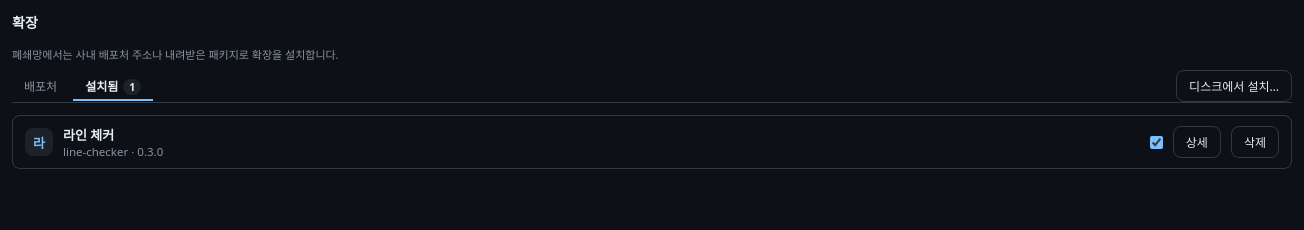
삭제 › 못 지우면 사유를 알린다 — 조용히 지워진 척하면 안 된다
The image size is (1304, 230).
Click the button "삭제" at (1255, 142), box [1231,126,1279,158]
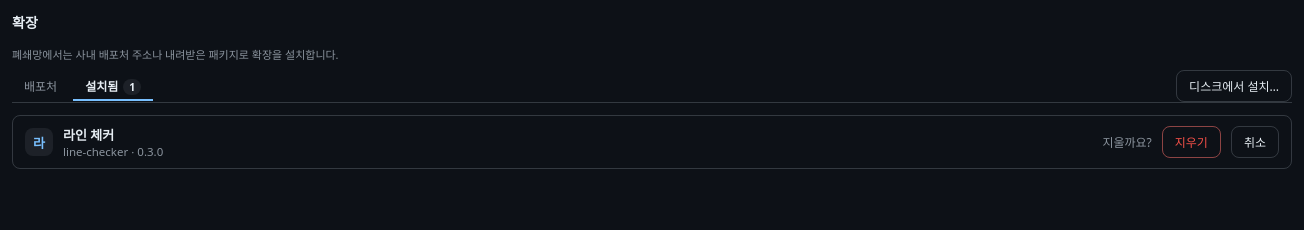
Click the button "지우기" at (1191, 142), box [1162,126,1221,158]
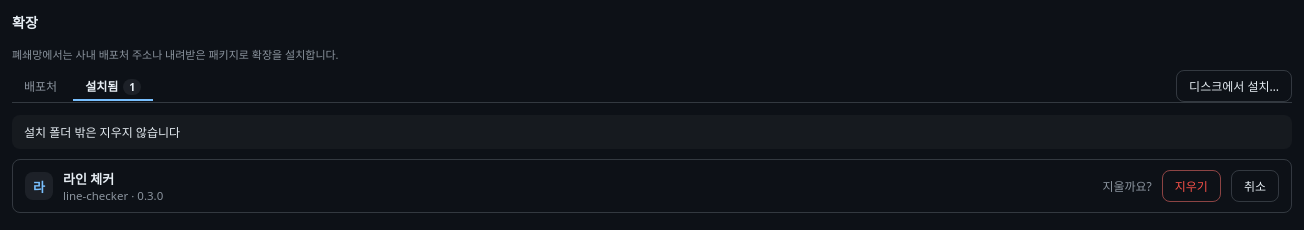
Expected: the text "설치 폴더 밖은 지우지 않습니다" is shown, [12,115,1292,149]
